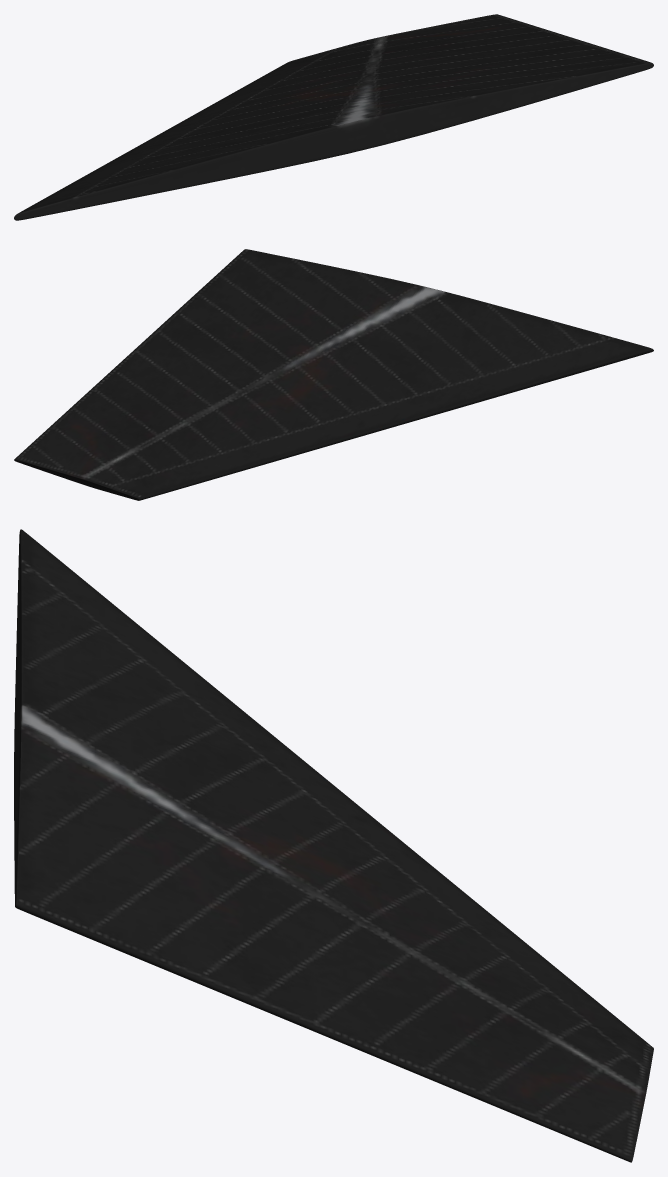
Rendered from x15_elevon_right.glb.
The picture shows the model from 3 angles, top to bottom: view 1: azimuth 30°, elevation 25°; view 2: azimuth 150°, elevation 25°; view 3: azimuth 270°, elevation 25°; orthographic projection. The views are drawn at different scales.
Parts seen in each view (by area): view 1: elevon_right_export; view 2: elevon_right_export; view 3: elevon_right_export.
Part boxes in pixels (x1,y1,x2,y2): elevon_right_export: [14, 14, 653, 220]; elevon_right_export: [14, 249, 653, 500]; elevon_right_export: [14, 529, 653, 1162].
Size of the model in its own units: 3.02 by 0.7253 by 1.88.
Materials: 1 (1 with a texture image).
